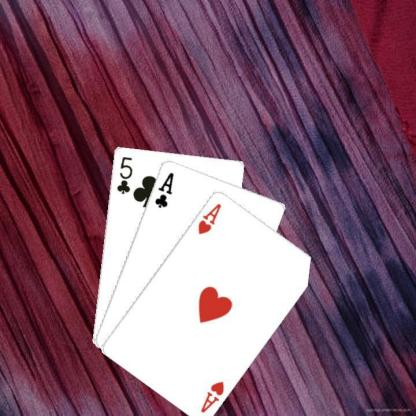5C: (114, 154, 133, 194)
AC: (152, 169, 175, 209)
AH: (196, 200, 223, 236), (198, 378, 225, 414)
